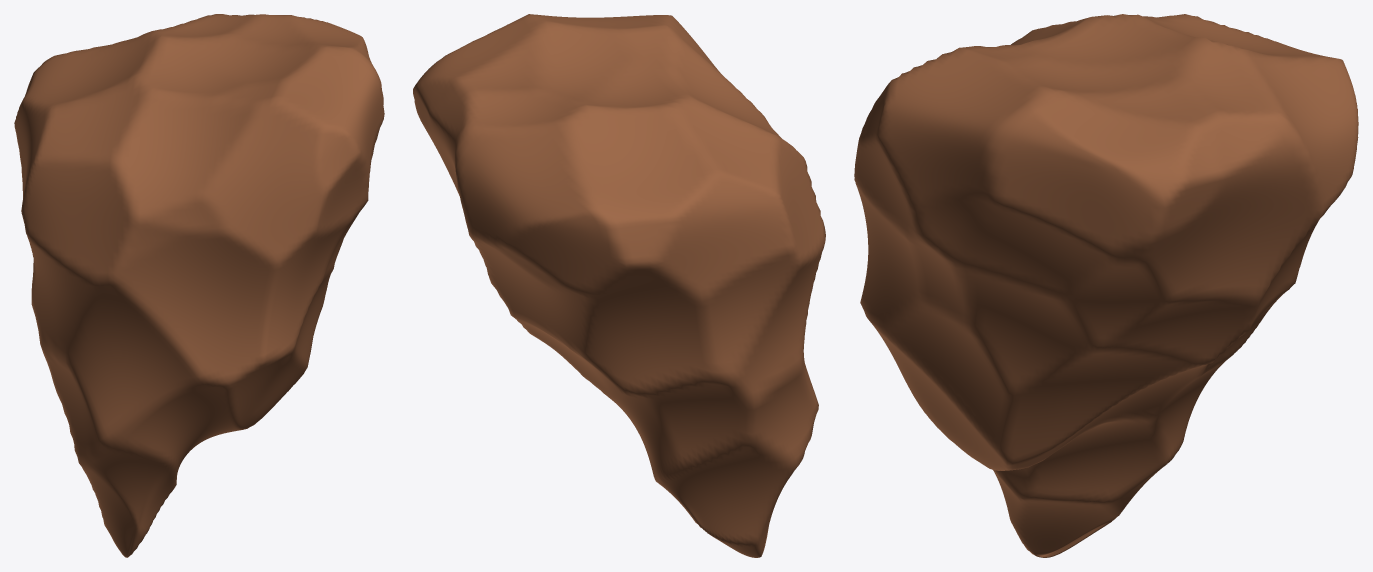
Rendered from rock to jump on.fbx.
The picture shows the model from 3 angles, left to right: view 1: azimuth 30°, elevation 25°; view 2: azimuth 150°, elevation 25°; view 3: azimuth 270°, elevation 25°; orthographic projection. The views are drawn at different scales.
Visible parts, largest first — view 1: Cube.004; view 2: Cube.004; view 3: Cube.004.
Boxes of the visible parts, left/top/right/bottom form: Cube.004: left=14, top=14, right=384, bottom=557; Cube.004: left=413, top=14, right=825, bottom=557; Cube.004: left=854, top=14, right=1358, bottom=557.
Size of the model in its own units: 854 by 1070 by 822.
